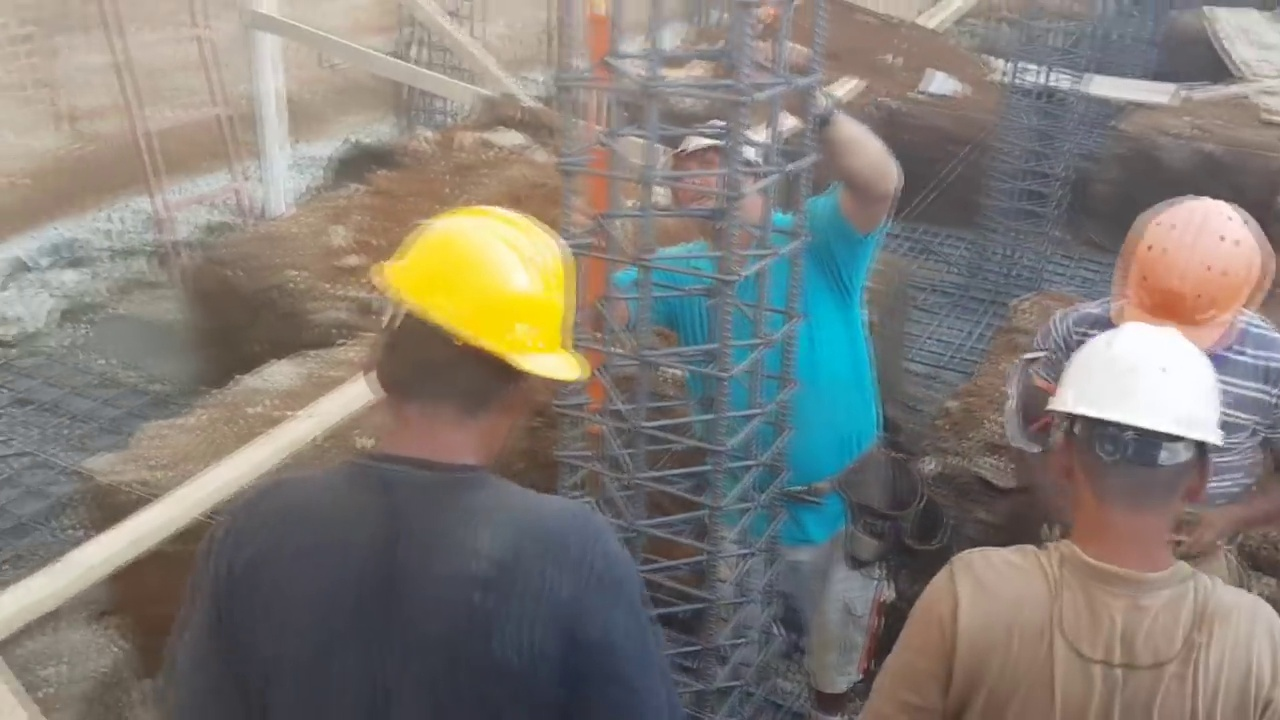helmet: (355, 195, 594, 384), (1030, 322, 1239, 459), (1108, 191, 1261, 335)
helmet-off: (664, 122, 787, 247)
helmet-on: (357, 204, 589, 468), (1028, 325, 1237, 587), (1104, 193, 1278, 355)
person: (160, 197, 666, 719), (578, 78, 903, 720), (862, 322, 1280, 720), (1016, 189, 1280, 582)
